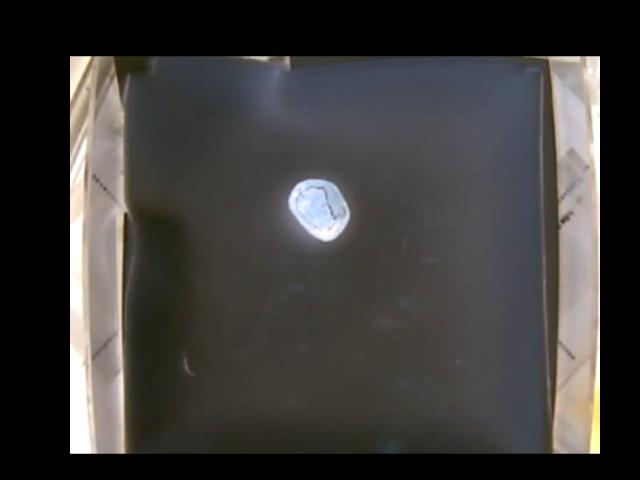Pebble: (288, 178, 351, 239)
